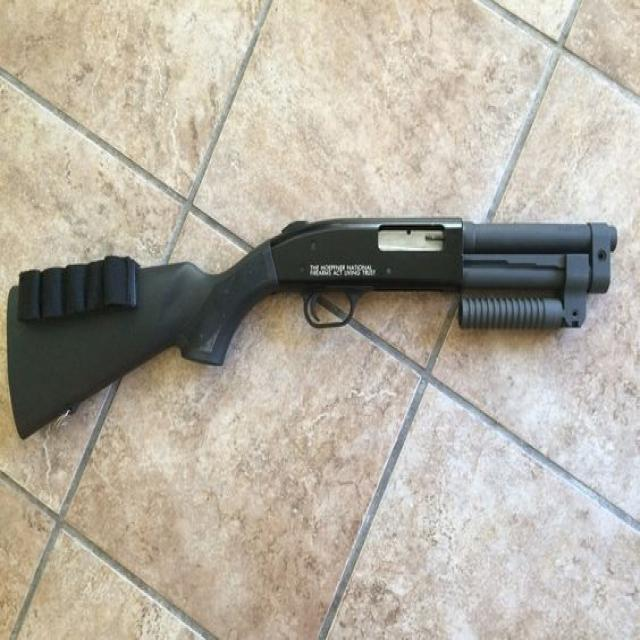shotgun: (0, 199, 623, 440)
